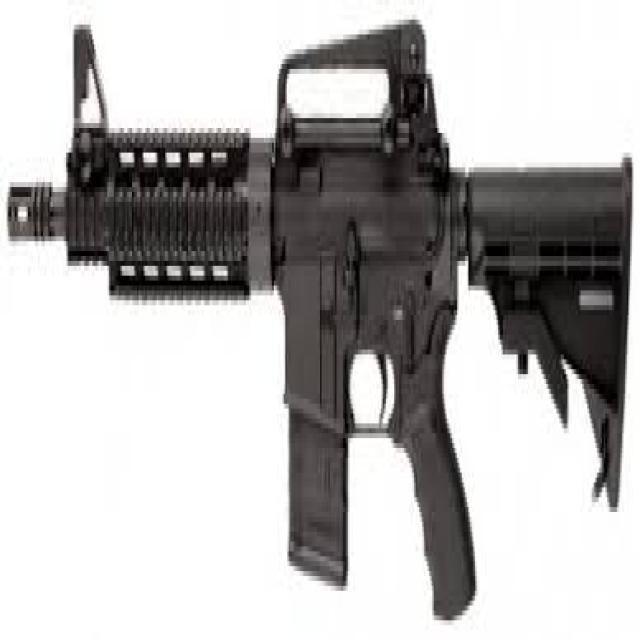rifle: (4, 14, 636, 640)
